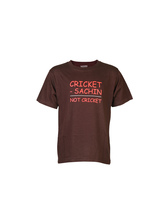clothoes: (34, 57, 135, 172)
